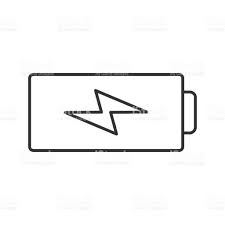charging sign: (25, 66, 202, 164)
